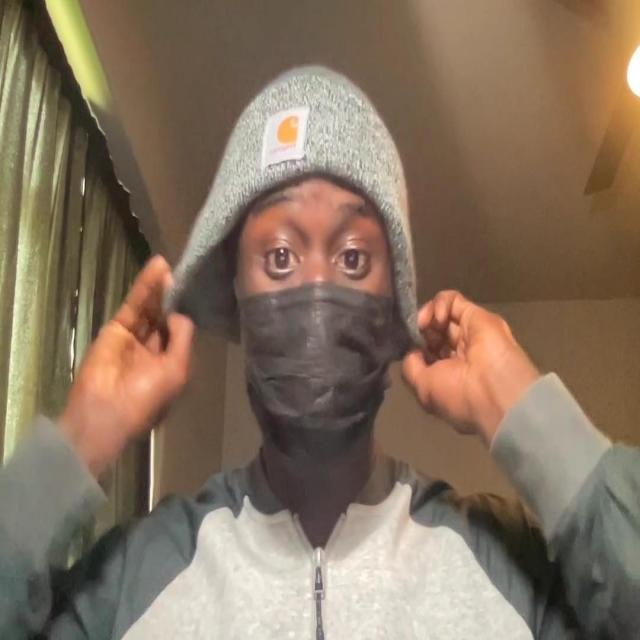face: (230, 150, 406, 470)
